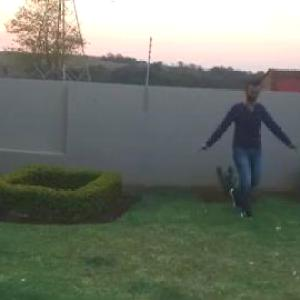land: (203, 92, 294, 219)
